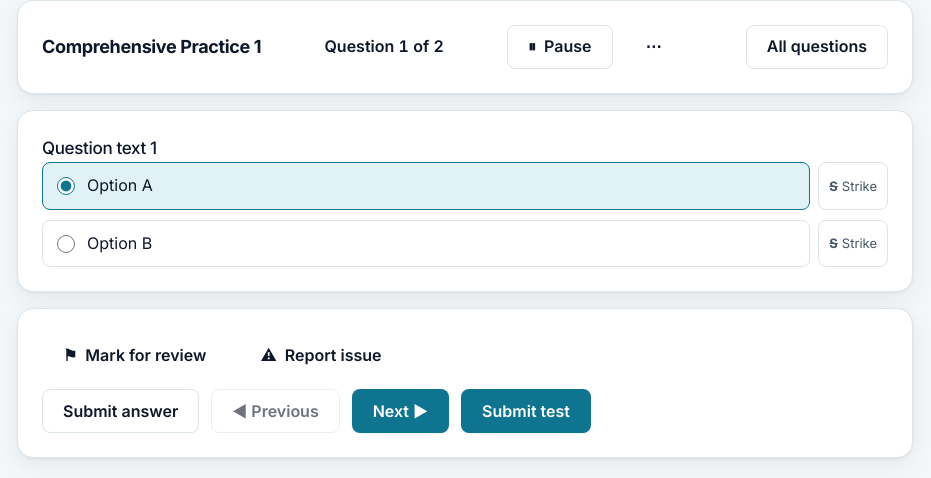
AttemptPlayer › restores a saved answer and autosaves a new one with the lease header
Expected: the radio button labelled "Option A" is checked, [57,177,75,195]
Click the radio button labelled "Option B": (66, 244) [57,235,75,253]
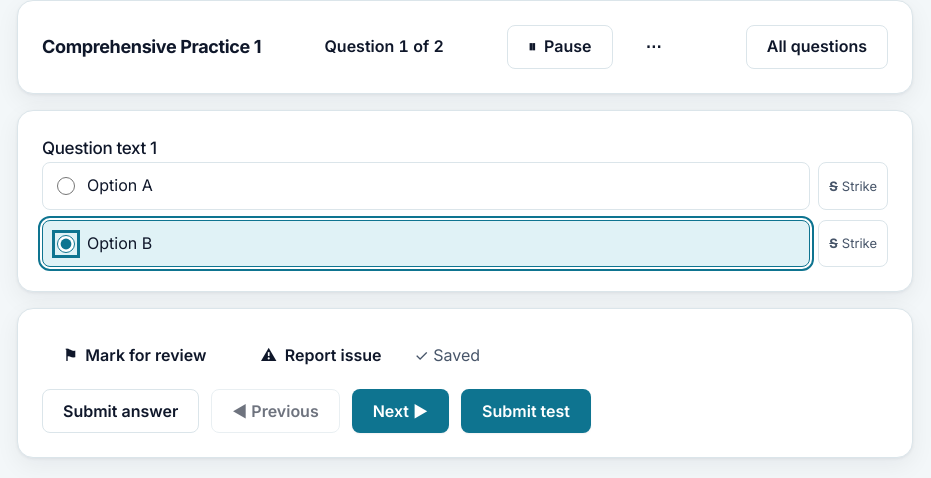
Now the radio button labelled "Option B" is checked, box [57,235,75,253]
Now the message shows "Saved", box [415,345,480,365]
